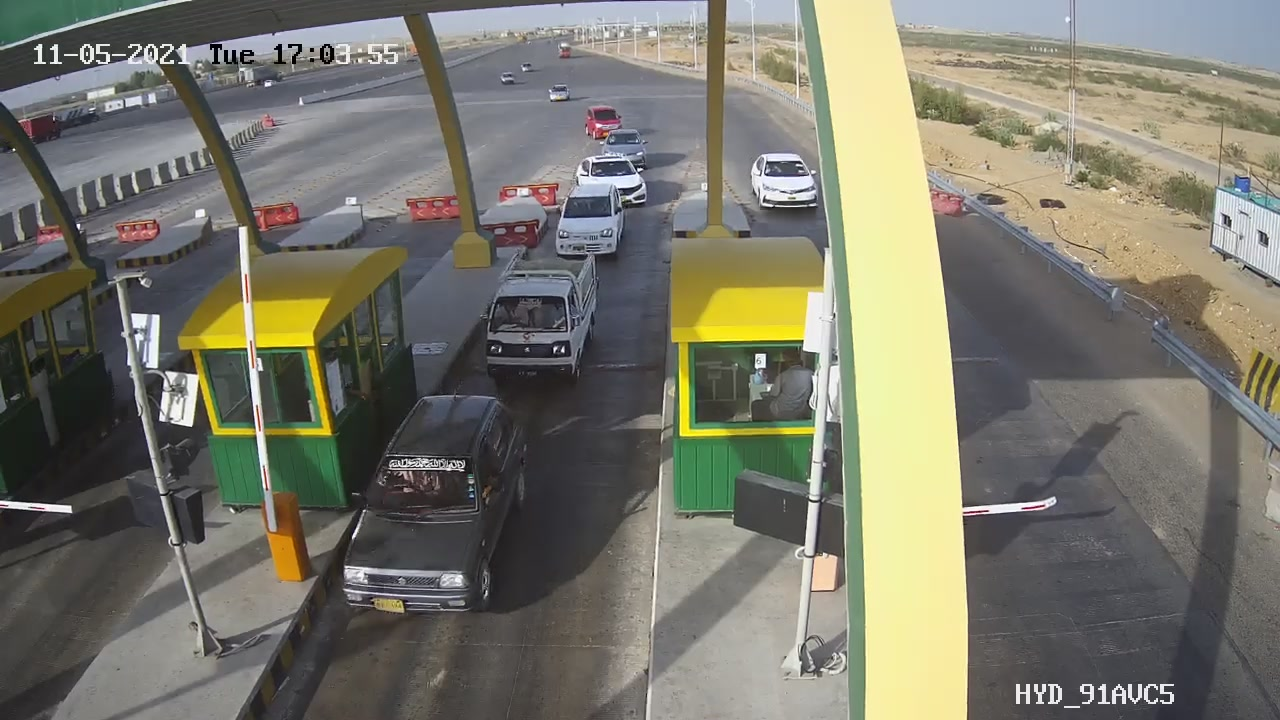F1: (322, 375, 555, 643), (455, 235, 605, 387), (547, 178, 630, 265)
